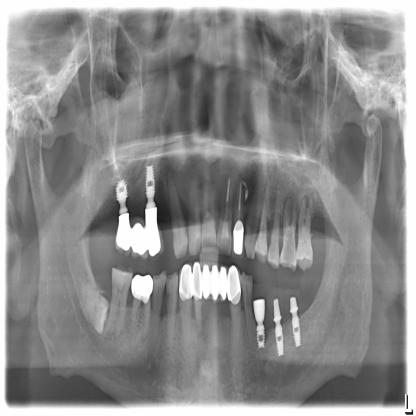Bicon: (272, 295, 286, 359), (288, 293, 303, 351), (251, 298, 266, 352), (143, 163, 158, 211), (113, 177, 130, 216)
